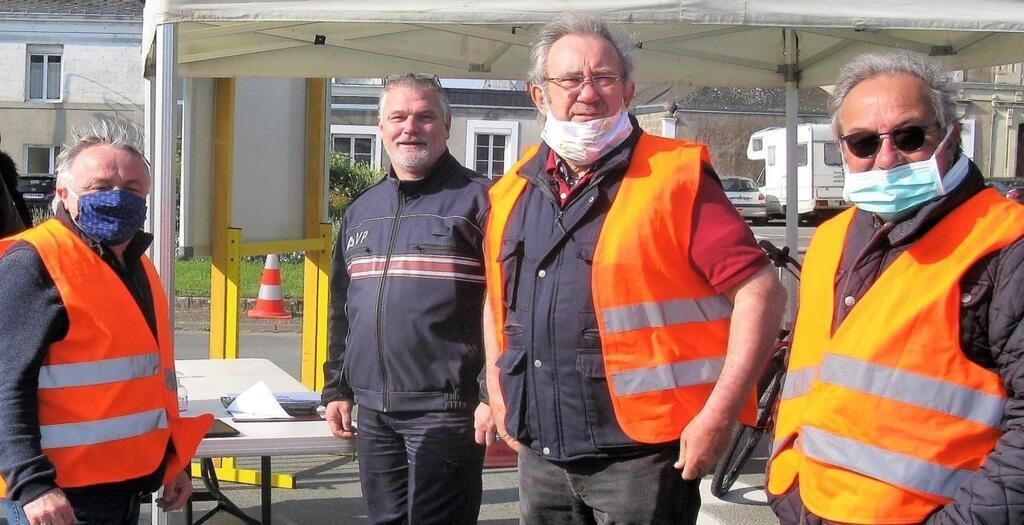with_incorrect_mask: (842, 113, 939, 209), (552, 66, 627, 150)
with_mask: (72, 164, 148, 237)
without_mask: (391, 99, 443, 168)
